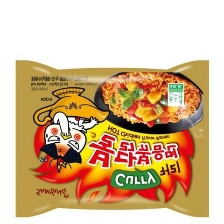snack: (6, 51, 216, 224)
